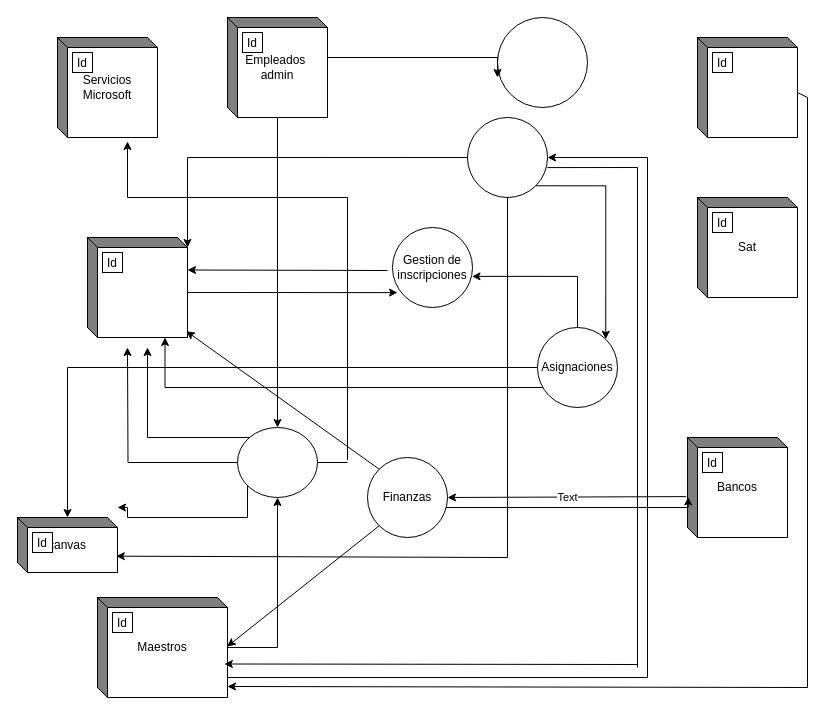
Image size: 833x715. Some labels were removed from this diagram. The centre of each missing label's shape, as x and y in pixels:
Alumnos: (x=137, y=287)
IGSS: (x=747, y=87)
Mantenimientos: (x=542, y=62)
Notas: (x=507, y=157)
Sub sust Registro: (x=277, y=462)
